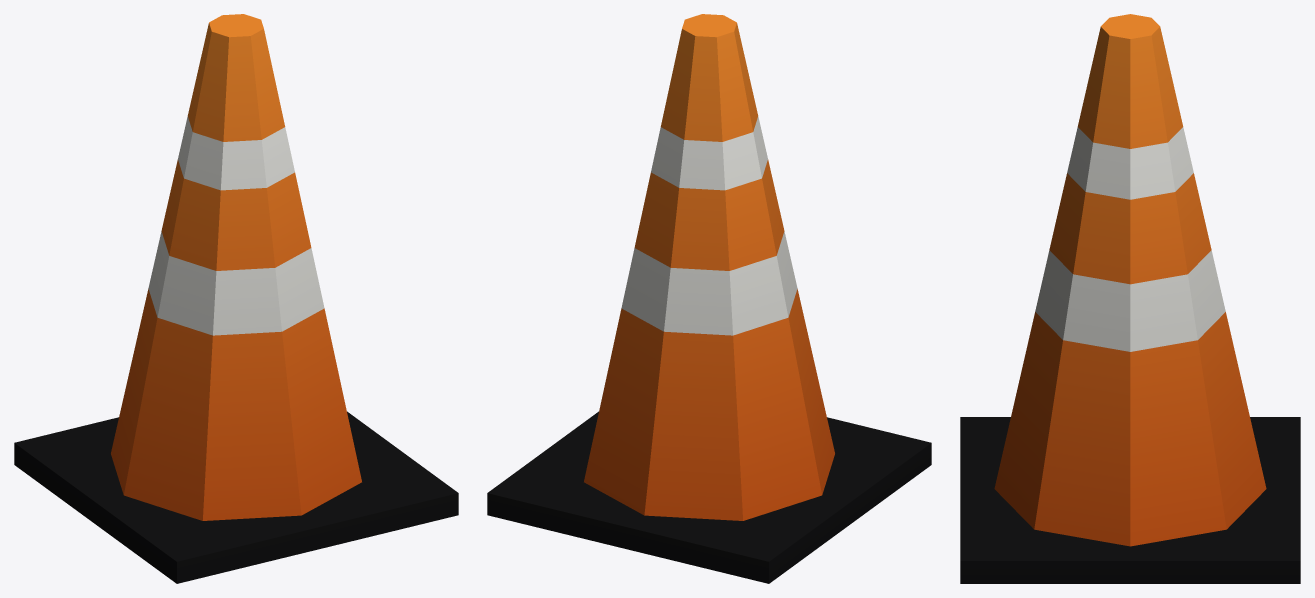
3 renders of one model, left to right at view 1: azimuth 30°, elevation 25°; view 2: azimuth 150°, elevation 25°; view 3: azimuth 270°, elevation 25°, orthographic. The views are drawn at different scales.
Visible parts, largest first — view 1: Cone_LOD0; view 2: Cone_LOD0; view 3: Cone_LOD0.
Part boxes in pixels (x1,y1,x2,y2): Cone_LOD0: (14,14,458,583); Cone_LOD0: (487,14,931,583); Cone_LOD0: (960,14,1300,583).
Size of the model in its own units: 0.0571 by 0.09 by 0.0571.
Materials: 1 (1 with a texture image).
